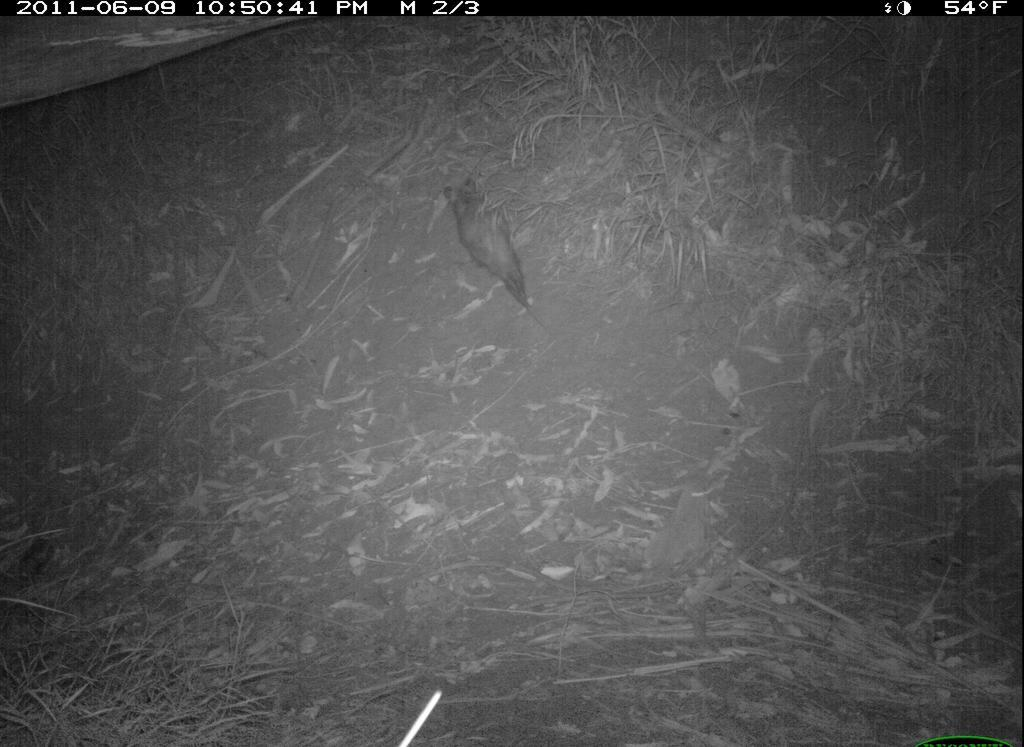opossum: (443, 173, 548, 327)
